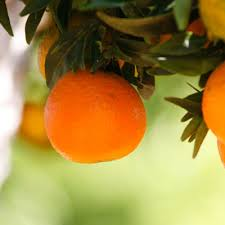orange: (42, 66, 147, 165)
